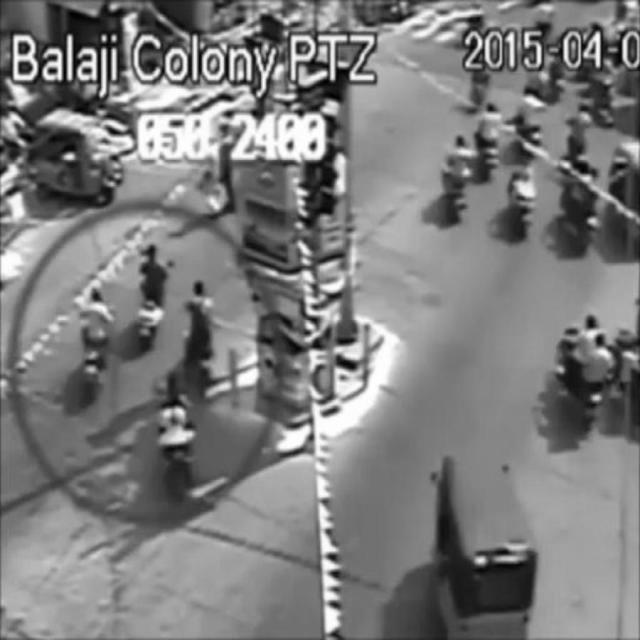vehicle: (433, 436, 541, 634), (39, 112, 113, 208), (554, 312, 608, 430), (156, 369, 196, 493), (132, 241, 169, 349), (180, 279, 217, 383), (559, 162, 597, 260), (80, 284, 112, 397), (438, 134, 472, 217), (474, 96, 504, 184), (509, 85, 546, 156), (511, 154, 537, 246), (567, 101, 595, 165)
